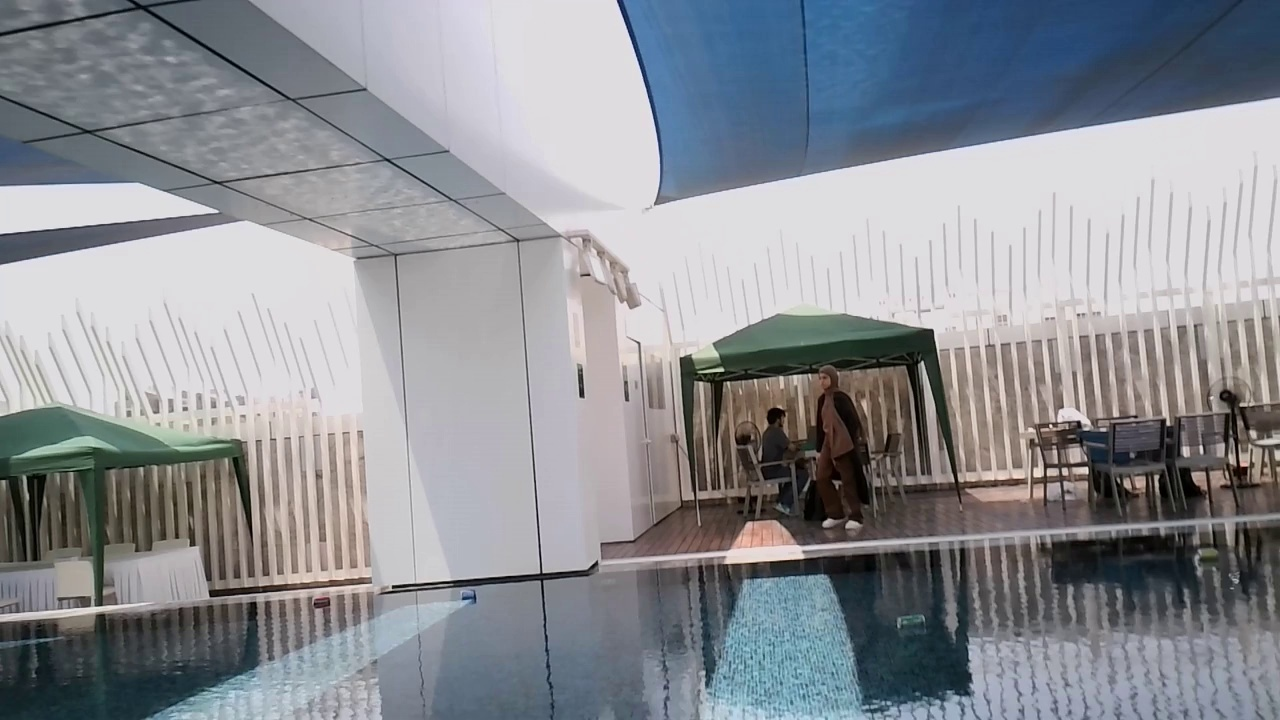debris: (890, 609, 933, 641), (1194, 544, 1222, 569), (455, 587, 478, 606), (310, 596, 335, 609)
